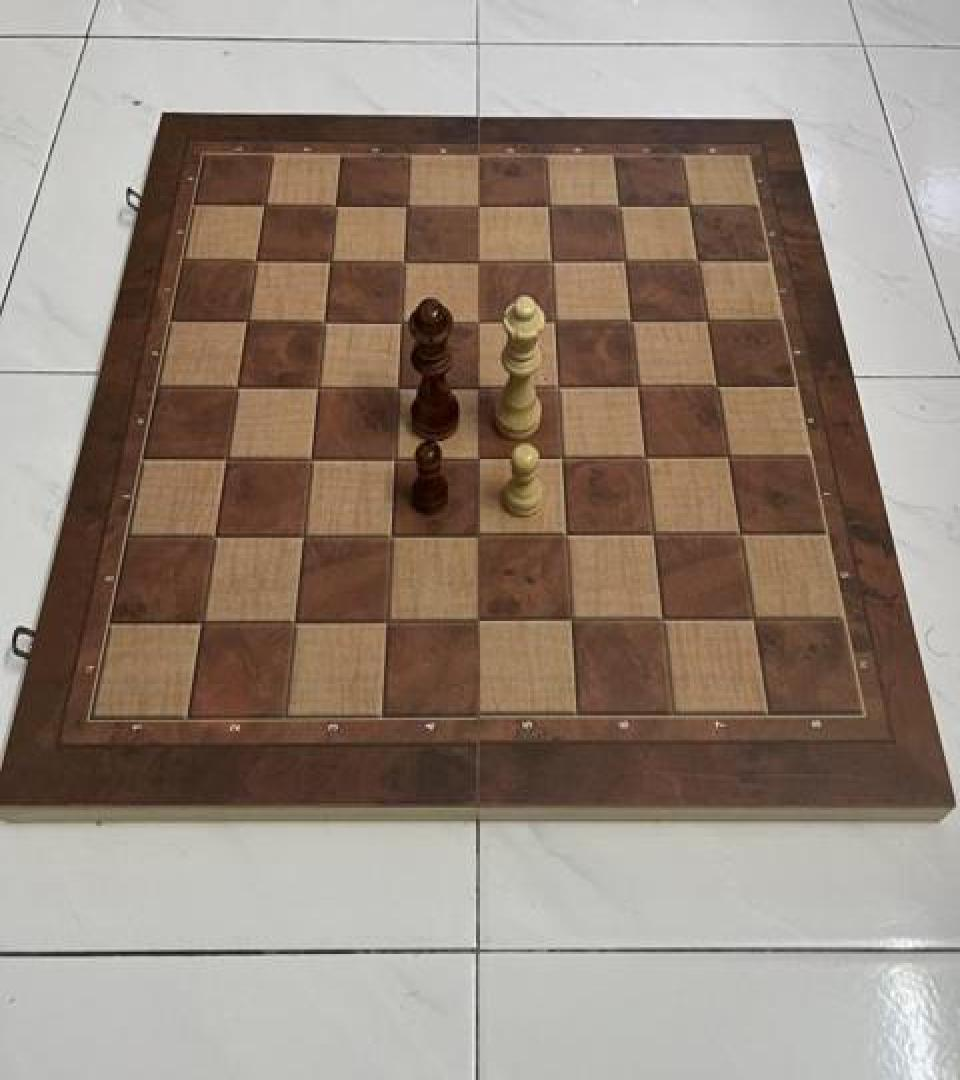xcorner: (670, 189, 702, 225), (600, 189, 632, 225), (530, 189, 562, 225), (459, 189, 491, 225), (389, 189, 421, 225), (318, 189, 350, 225), (247, 189, 279, 225), (679, 243, 711, 279), (606, 243, 638, 279), (533, 243, 565, 279), (459, 243, 491, 279), (386, 243, 418, 279), (313, 244, 345, 280), (239, 244, 271, 280), (688, 302, 720, 338), (612, 302, 644, 338), (536, 302, 568, 338), (459, 302, 491, 338), (383, 302, 415, 338), (306, 304, 338, 340), (230, 304, 262, 340), (698, 367, 730, 403), (619, 367, 651, 403), (539, 368, 571, 404), (459, 368, 491, 404), (380, 368, 412, 404), (300, 368, 332, 404), (220, 368, 252, 404), (709, 438, 741, 474), (626, 438, 658, 474), (543, 438, 575, 474), (460, 438, 492, 474), (376, 439, 408, 475), (293, 439, 325, 475), (209, 439, 241, 475), (721, 514, 753, 550), (634, 515, 666, 551), (547, 515, 579, 551), (460, 515, 492, 551), (372, 515, 404, 551), (285, 516, 317, 552), (197, 516, 229, 552), (734, 600, 766, 636), (643, 600, 675, 636), (551, 600, 583, 636), (460, 601, 492, 637), (368, 601, 400, 637), (276, 601, 308, 637), (184, 602, 216, 638)
